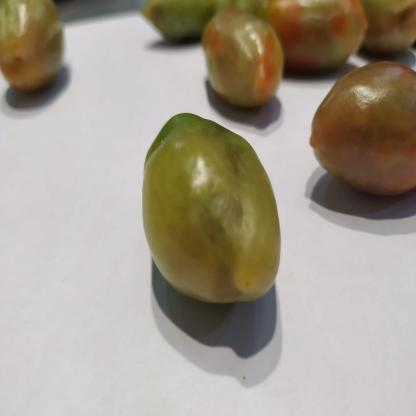T_F_R: (143, 113, 282, 304), (311, 63, 416, 196)
